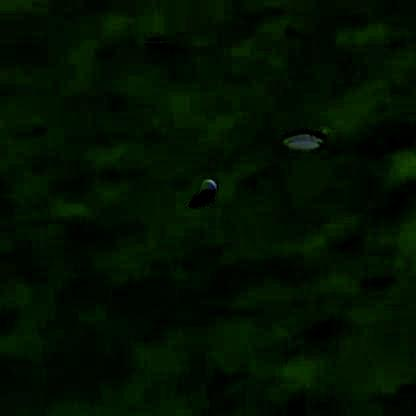golfball: (198, 174, 216, 193)
